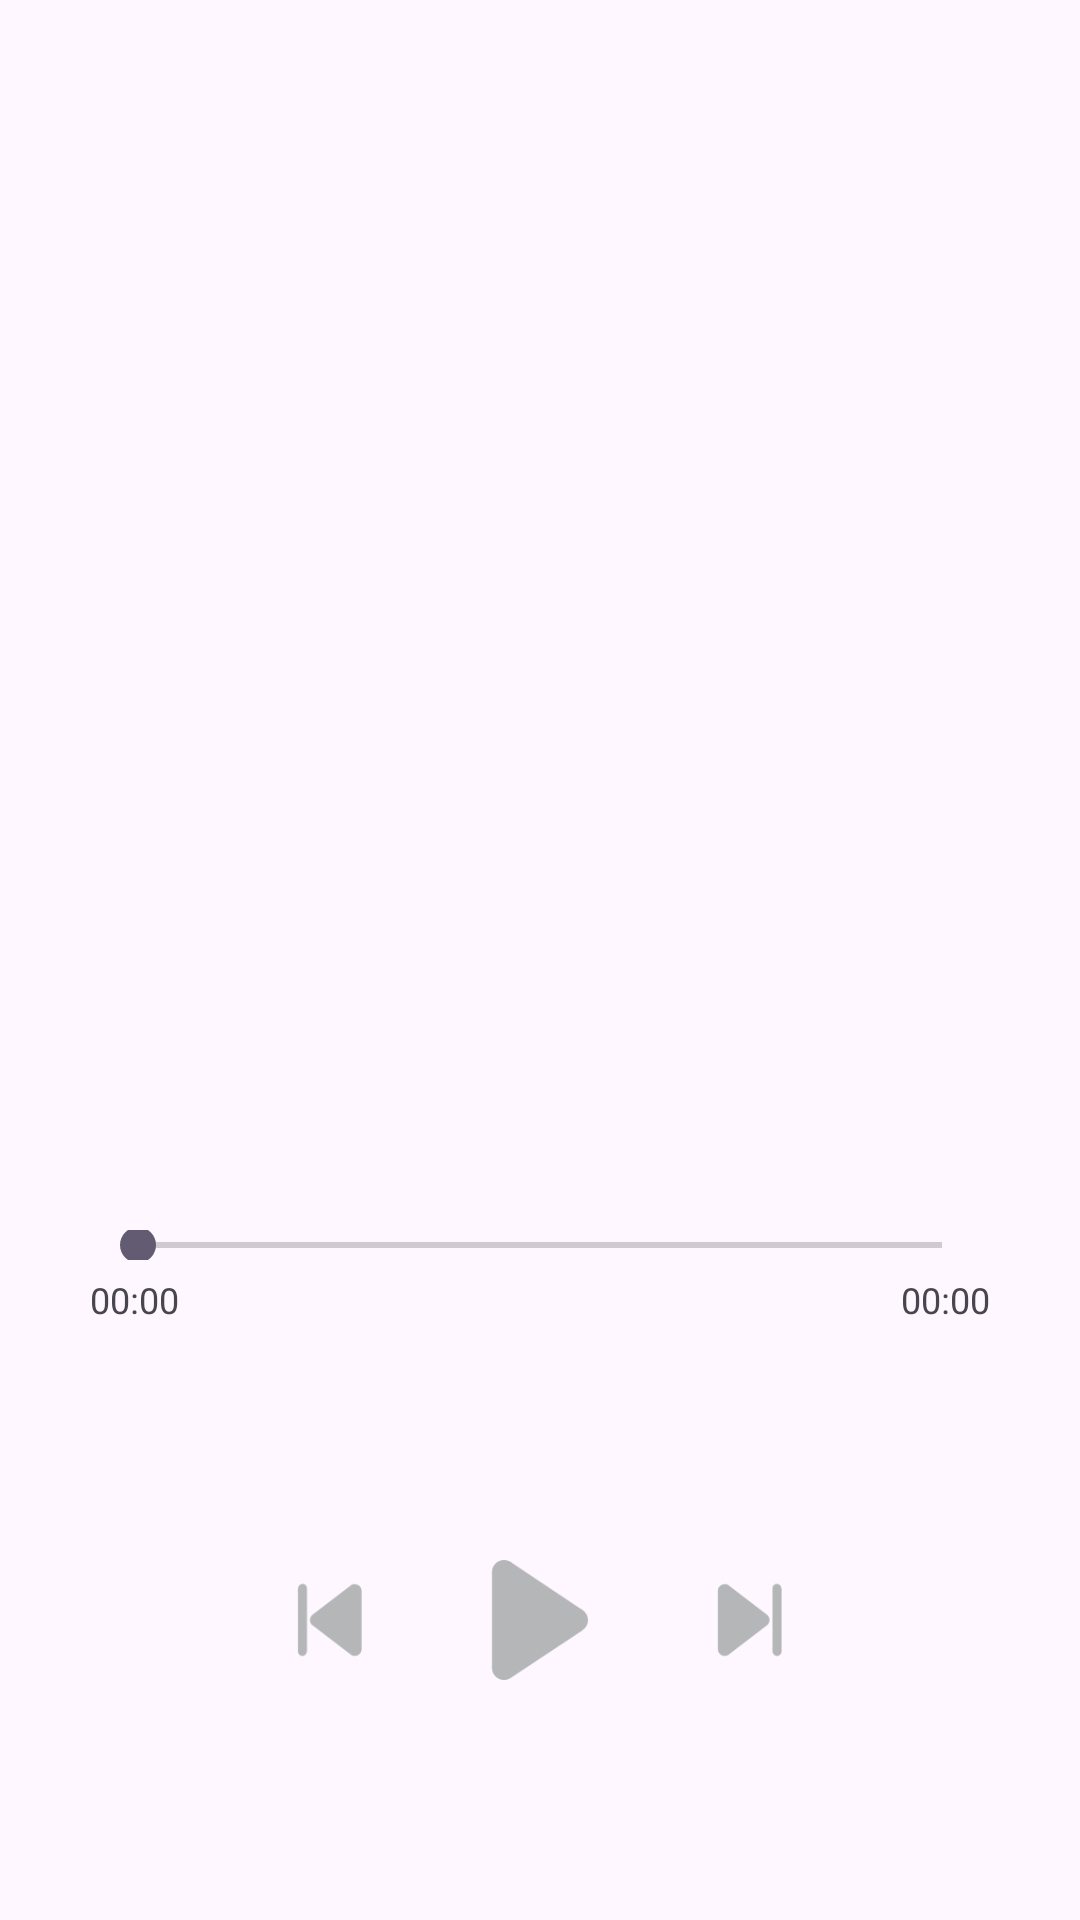

Icons on this 1080w x 1920h Android screen, each with its box as bbox(x1, y1, x2, y2):
listen back: bbox(298, 1584, 362, 1656)
listen next: bbox(718, 1584, 782, 1656)
listen play: bbox(492, 1560, 588, 1680)
